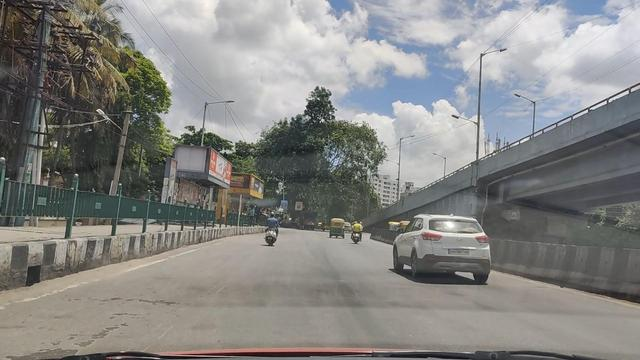LMV: (401, 203, 492, 285), (264, 207, 279, 248)
RoadDamages: (28, 321, 97, 357)
